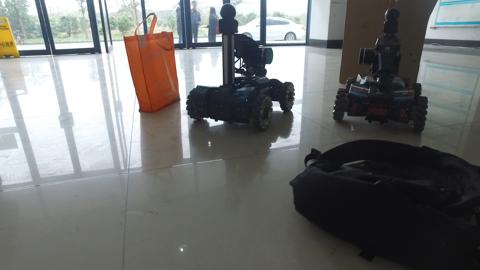bag: (124, 12, 179, 111)
chariot: (185, 4, 298, 129), (329, 6, 433, 126)
